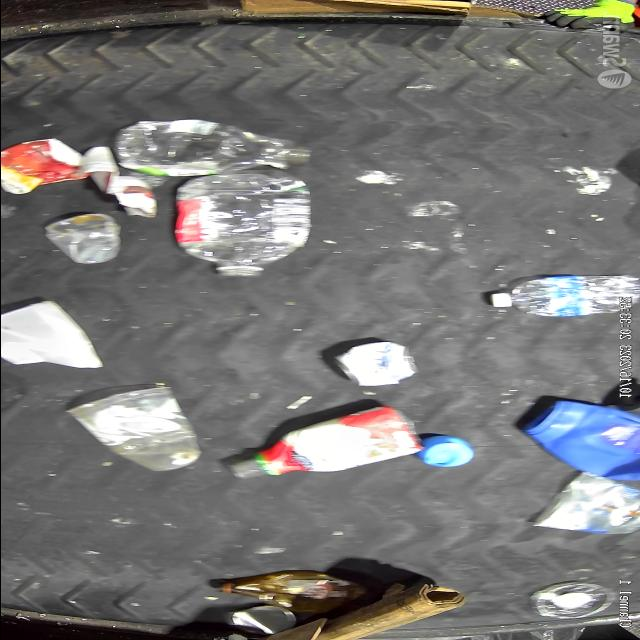can: (324, 338, 429, 388), (208, 605, 294, 635)
milk_jug: (8, 312, 112, 372)
non_white_jug: (518, 397, 640, 482)
plastic_bottle: (174, 170, 316, 282), (109, 116, 318, 174), (478, 268, 638, 318)
